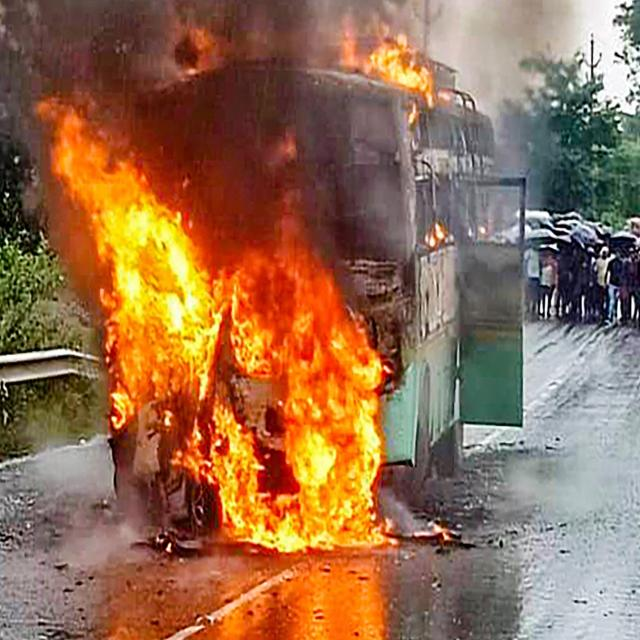fire: (218, 292, 388, 548), (101, 182, 212, 424)
